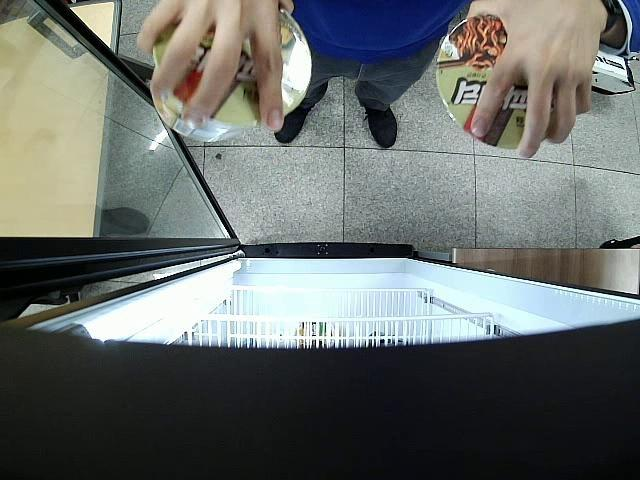03_chapagetti_L: (150, 0, 310, 142), (437, 14, 532, 150)
